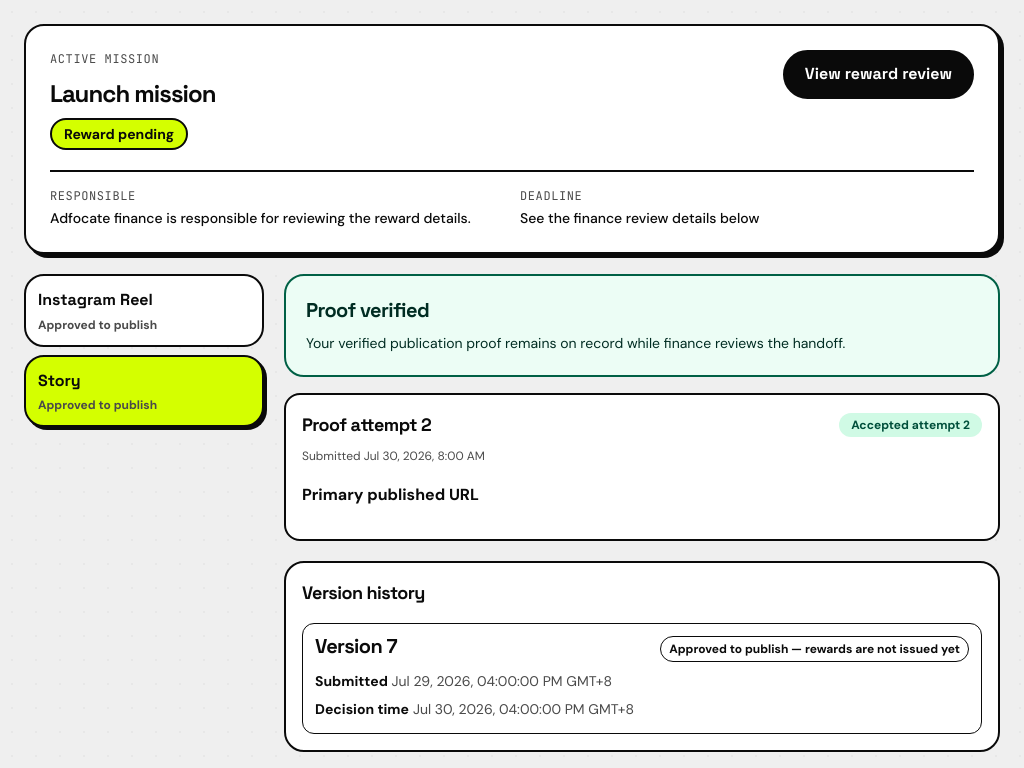
Test: keeps valid reward selection and changes localized proof history plus immutable timeline across items
The image size is (1024, 768).
Expected: the heading "Proof attempt 2" is shown, [302,411,431,439]
Expected: the heading "Version 7" is shown, [315,636,397,658]
Click the button "Instagram Reel Approved to publish" at (144, 310), box [24,274,264,347]
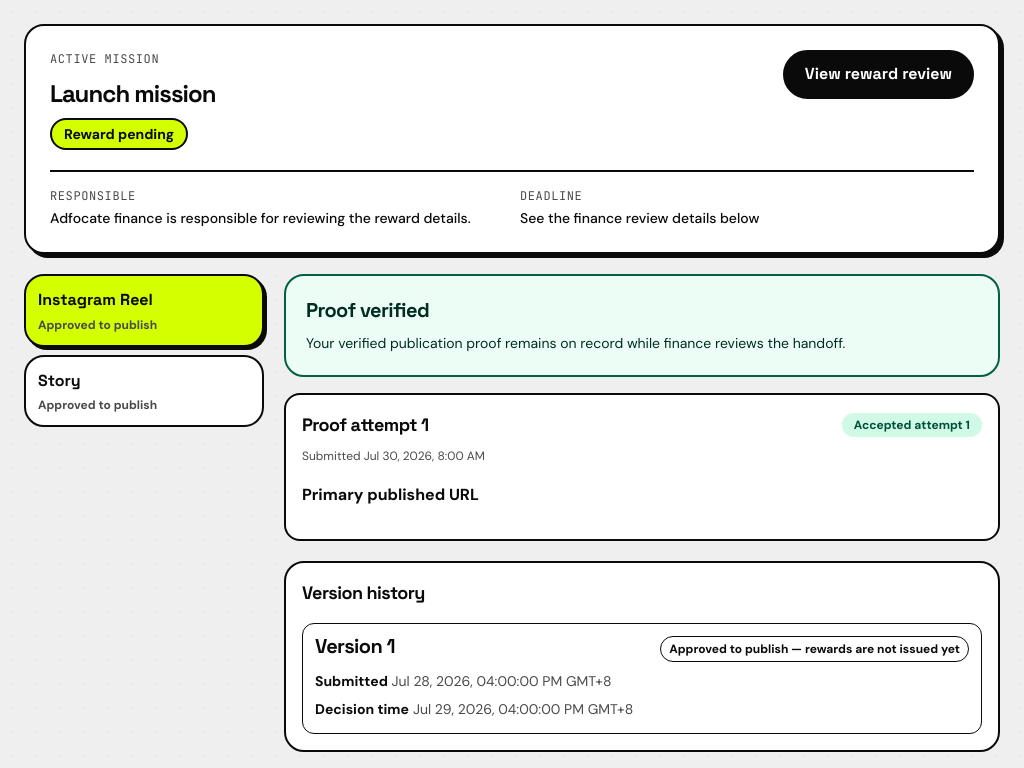
Expected: the heading "Proof attempt 1" is shown, [302,411,429,439]
Expected: the heading "Version 1" is shown, [315,636,395,658]
